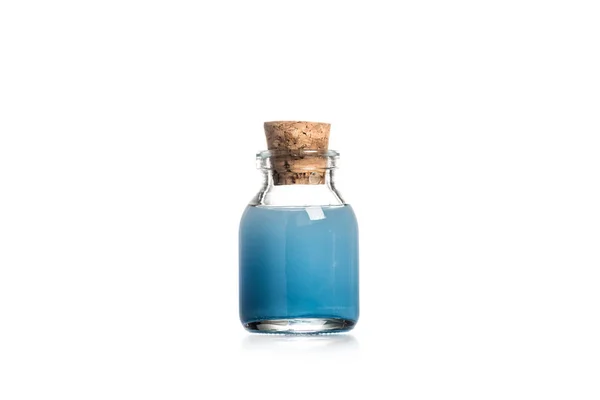glass_bottle: (224, 111, 378, 356)
